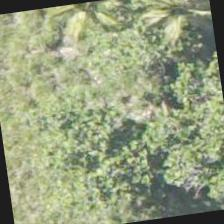Kelapa_Sawit: (123, 0, 216, 56)
